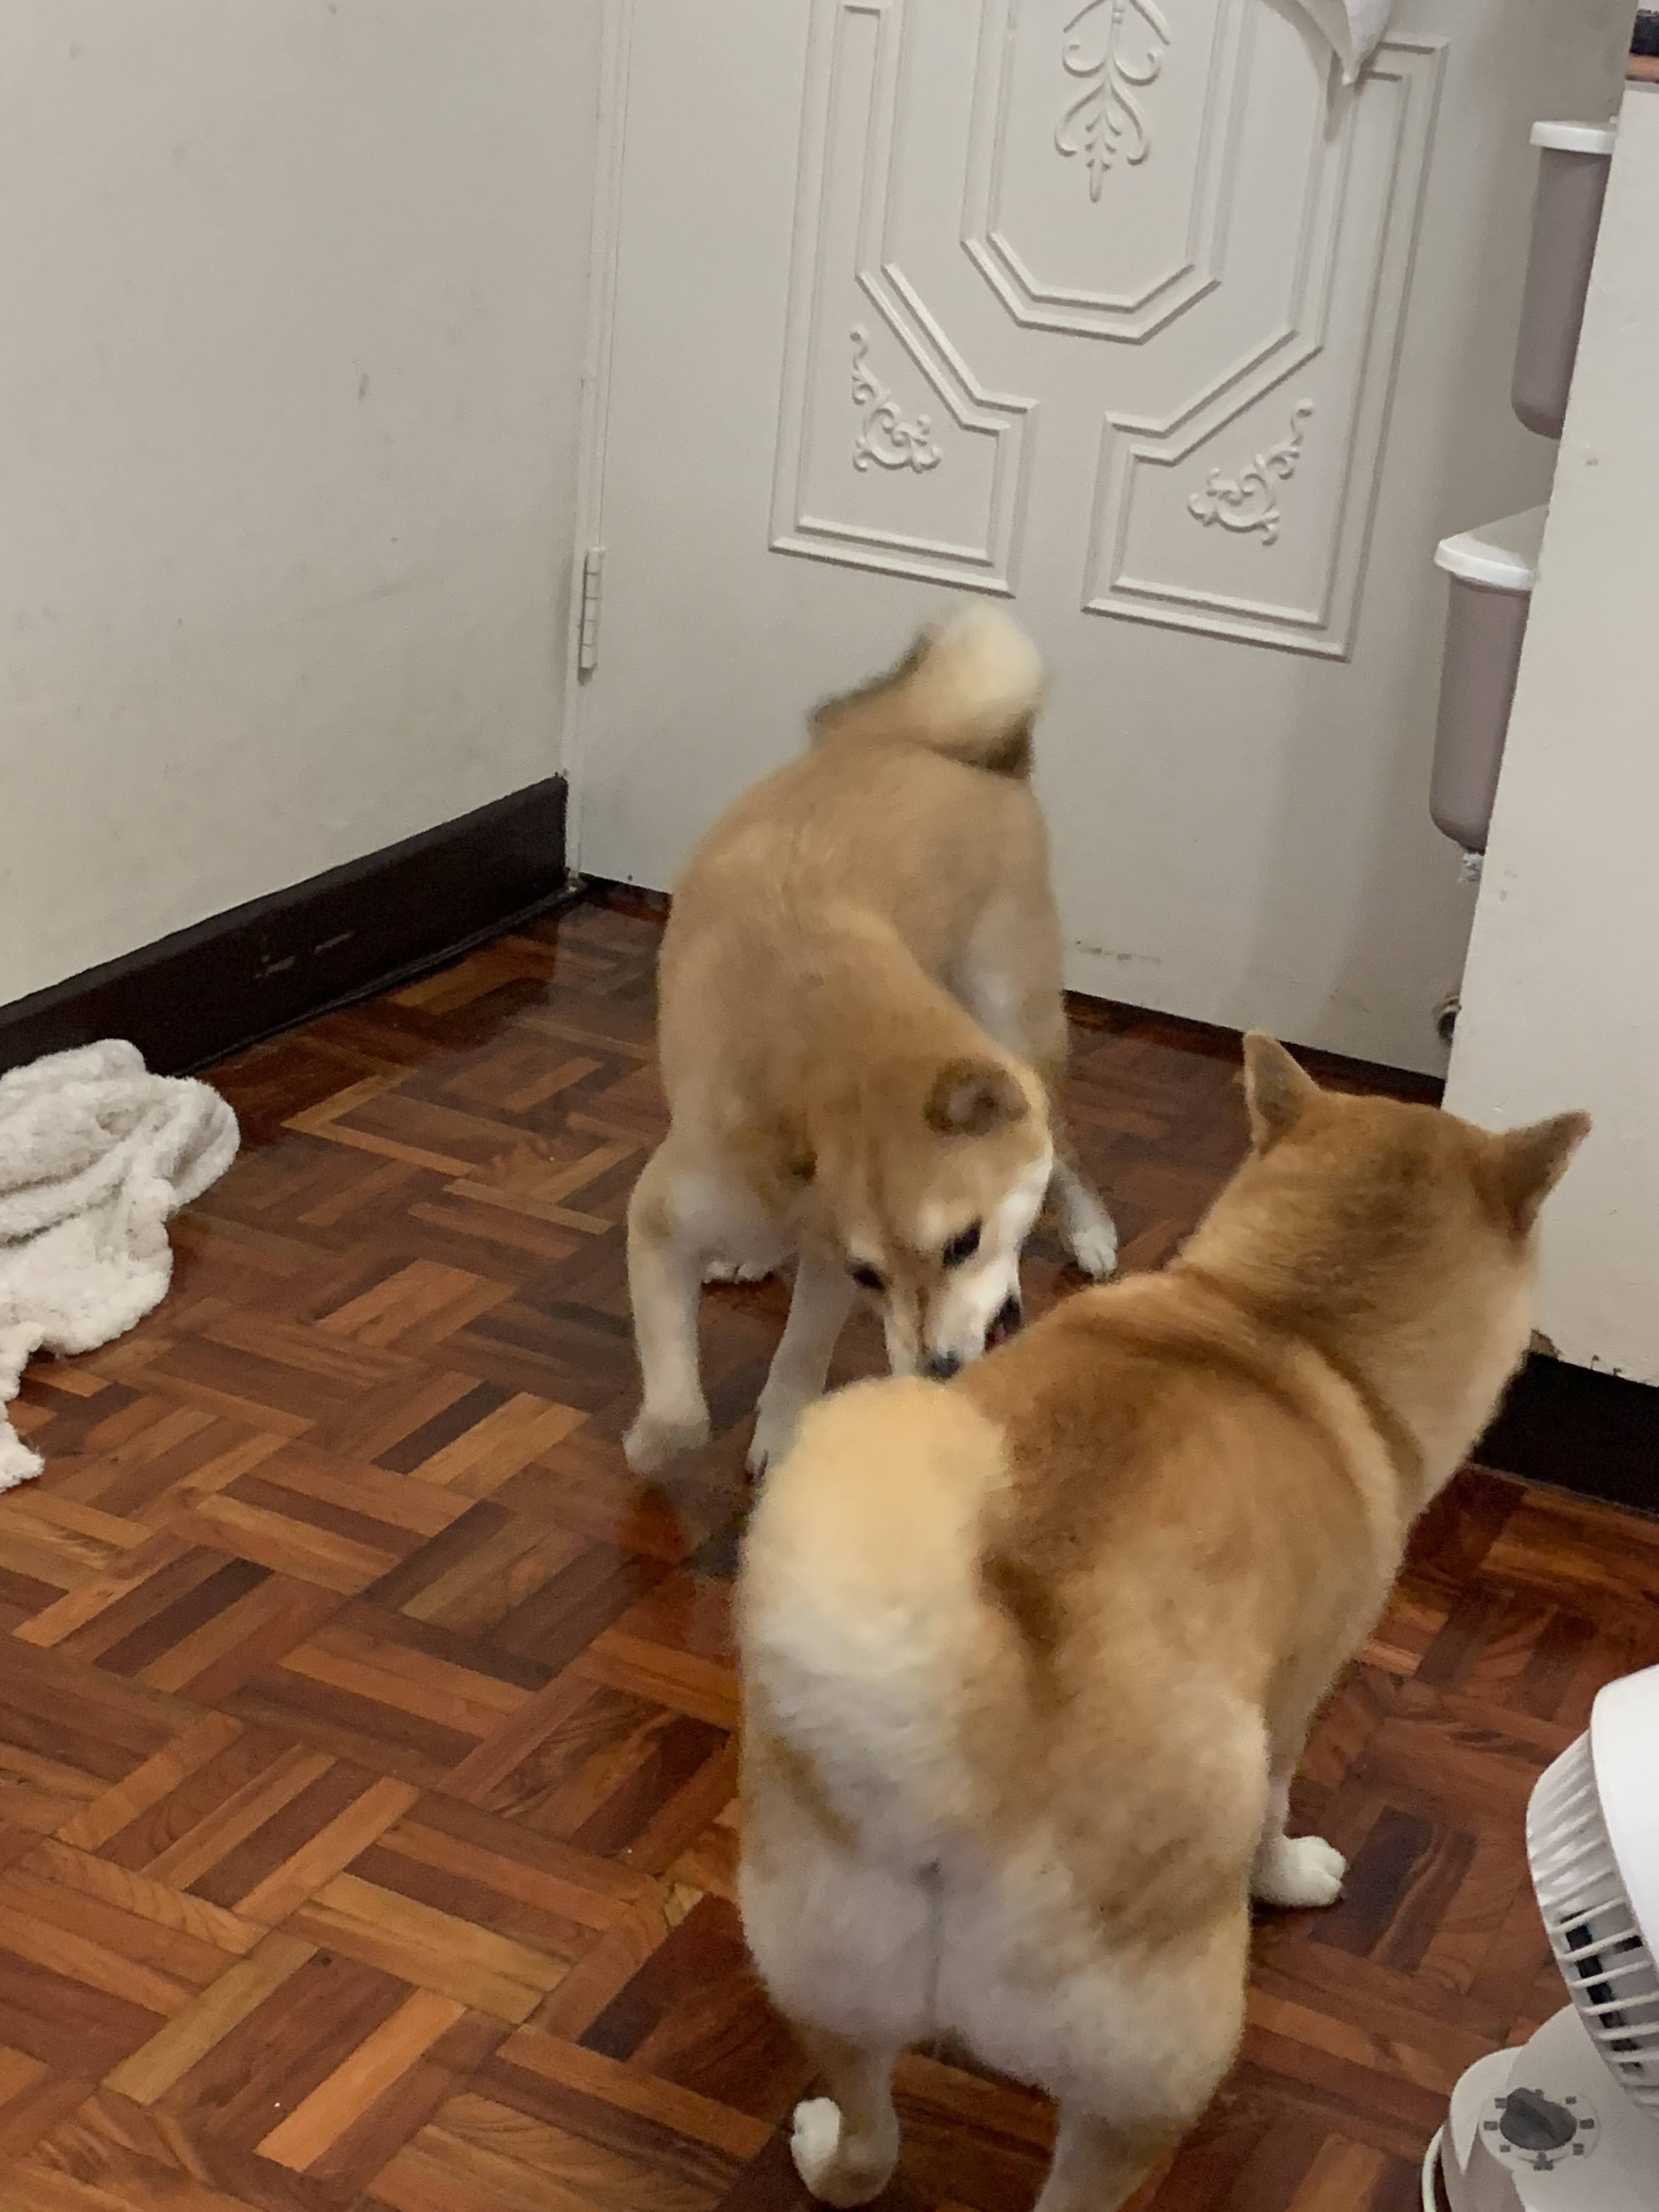Stand up: (702, 1035, 1570, 2205), (603, 599, 1094, 1456)
